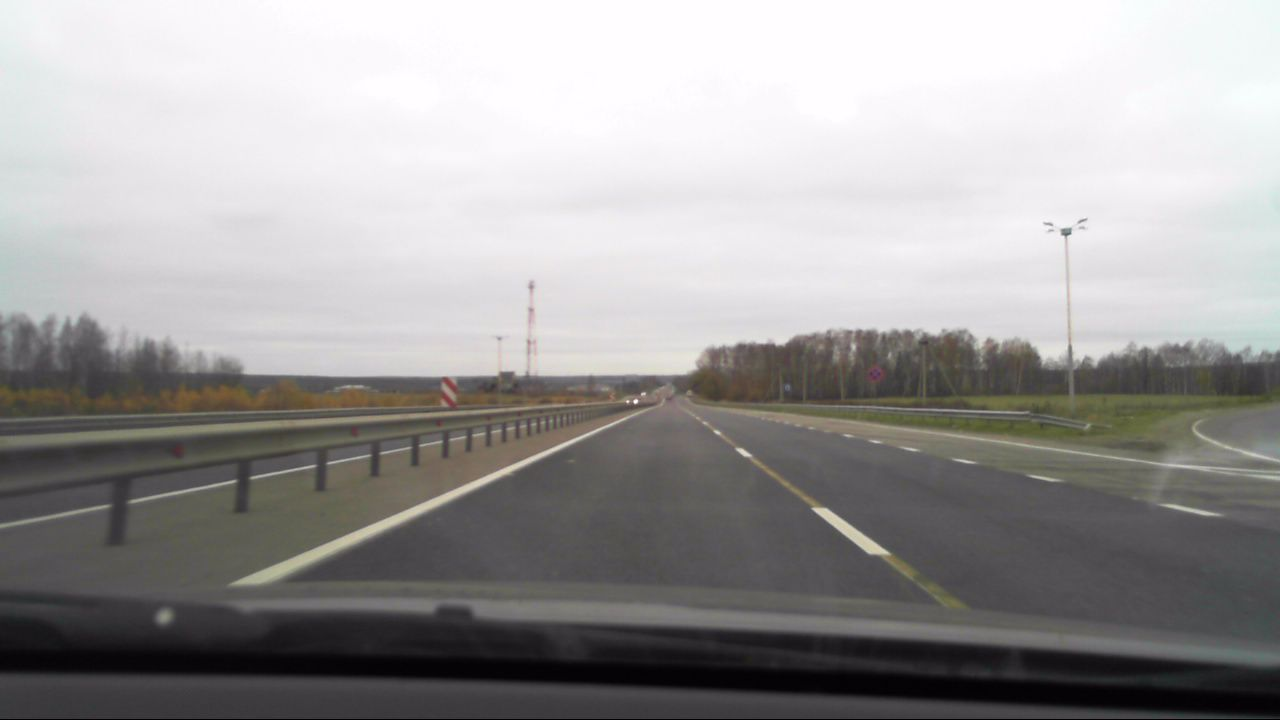No Parking: (864, 366, 885, 387)
